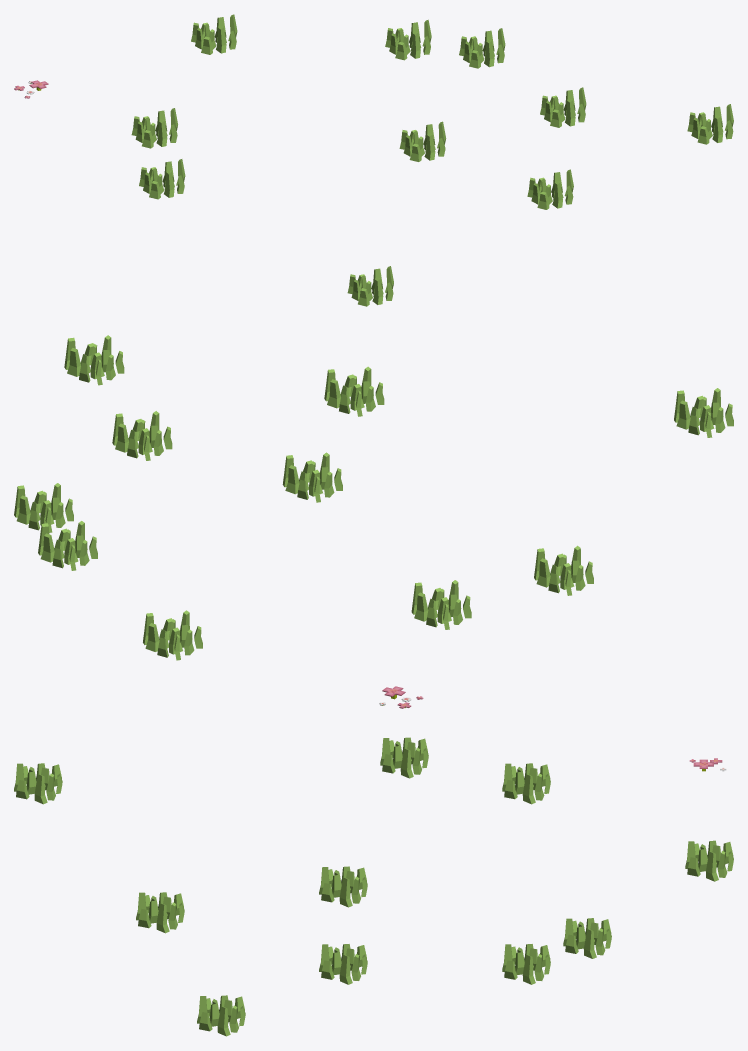
Rendered from flower_grass 9.fbx.
The picture shows the model from 3 angles, top to bottom: view 1: azimuth 30°, elevation 25°; view 2: azimuth 150°, elevation 25°; view 3: azimuth 270°, elevation 25°; orthographic projection. The views are drawn at different scales.
Parts seen in each view (by area): view 1: Grass_1; view 2: Grass_1; view 3: Grass_1.
Boxes of the visible parts, box(x1,y1,x2,y2) form: Grass_1: box(14, 14, 733, 306); Grass_1: box(14, 335, 733, 708); Grass_1: box(14, 737, 733, 1036).
Size of the model in its own units: 6546 by 294 by 7079.
2 materials, 2 textured.
